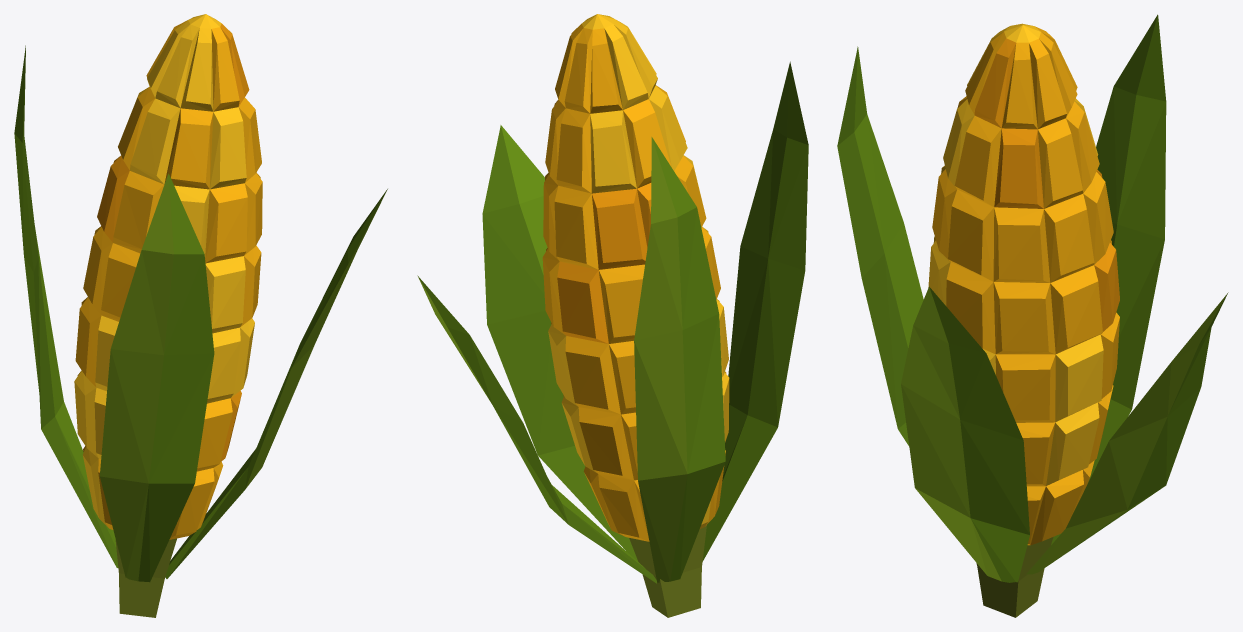
File: Corn.glb
3 renders of one model, left to right at view 1: azimuth 30°, elevation 25°; view 2: azimuth 150°, elevation 25°; view 3: azimuth 270°, elevation 25°, orthographic. The views are drawn at different scales.
Parts seen in each view (by area): view 1: Corn; view 2: Corn; view 3: Corn.
Part boxes in pixels (x1,y1,x2,y2): Corn: [14, 14, 387, 617]; Corn: [417, 14, 808, 617]; Corn: [837, 14, 1228, 617].
Size of the model in its own units: 0.1609 by 0.3062 by 0.1753.
